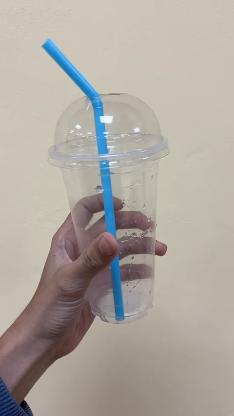Plastic Cup: (44, 91, 170, 325)
